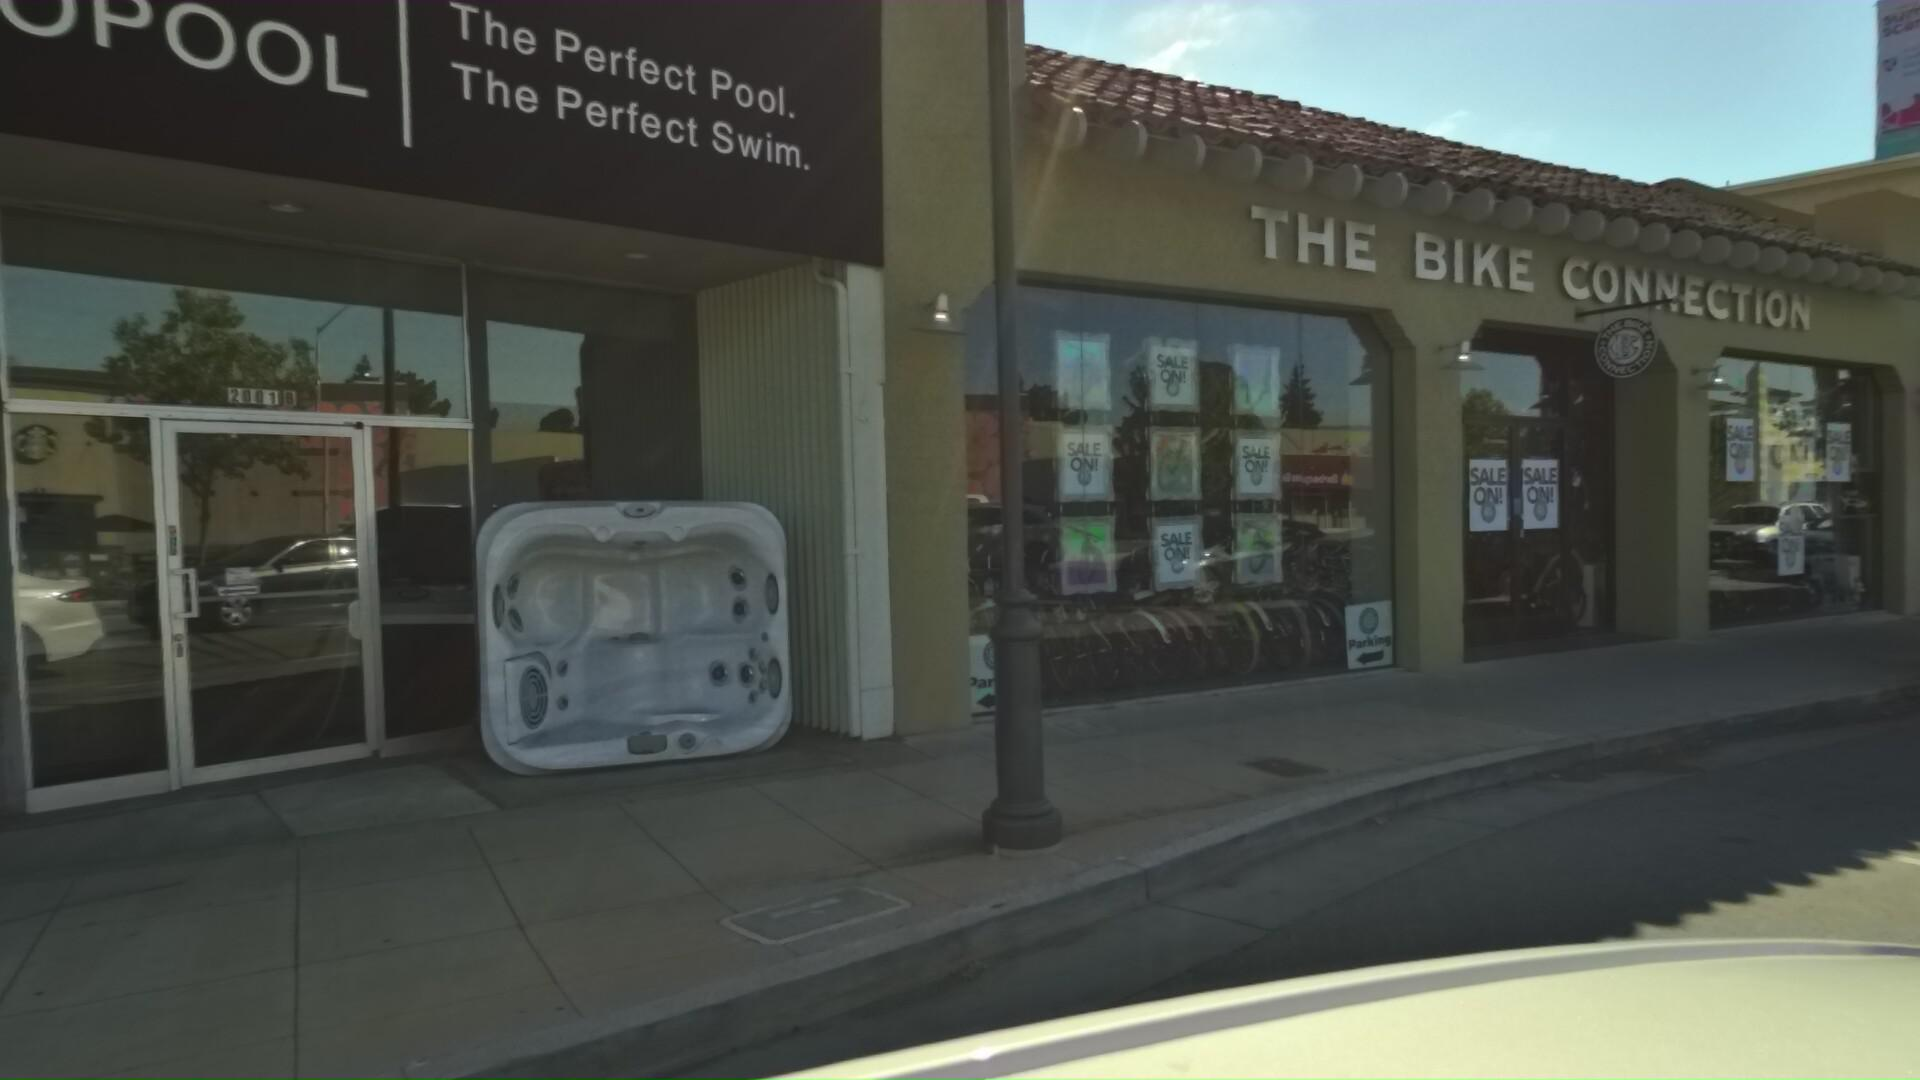car: (1894, 436, 1920, 742)
